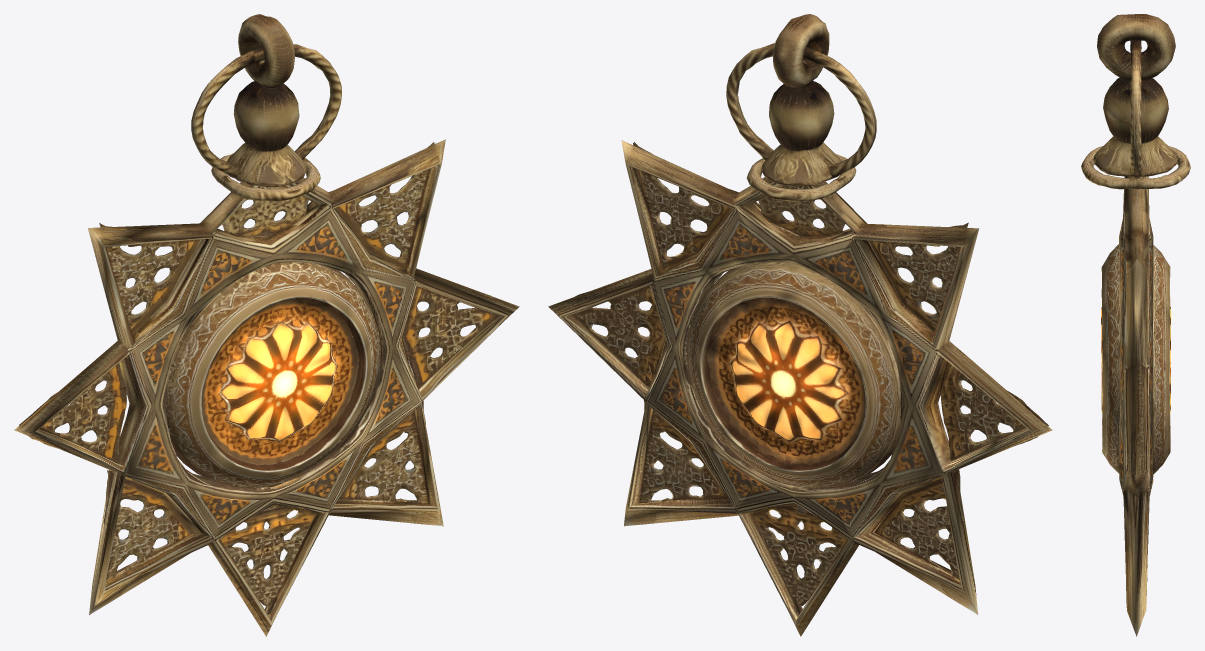
Rendered from Meshy_AI_Eight_Pointed_Star_La_0721143708_texture.fbx.
3 renders of one model, left to right at view 1: azimuth 30°, elevation 25°; view 2: azimuth 150°, elevation 25°; view 3: azimuth 270°, elevation 25°, orthographic. The views are drawn at different scales.
Visible parts, largest first — view 1: Mesh_0; view 2: Mesh_0; view 3: Mesh_0.
Part boxes in pixels (x1=…): Mesh_0: x1=14, y1=14, x2=519, y2=636; Mesh_0: x1=548, y1=14, x2=1052, y2=636; Mesh_0: x1=1081, y1=14, x2=1190, y2=636.
Bounding box in the file's own units: 85.74 × 100 × 16.55.
Materials: 1 (1 with a texture image).
